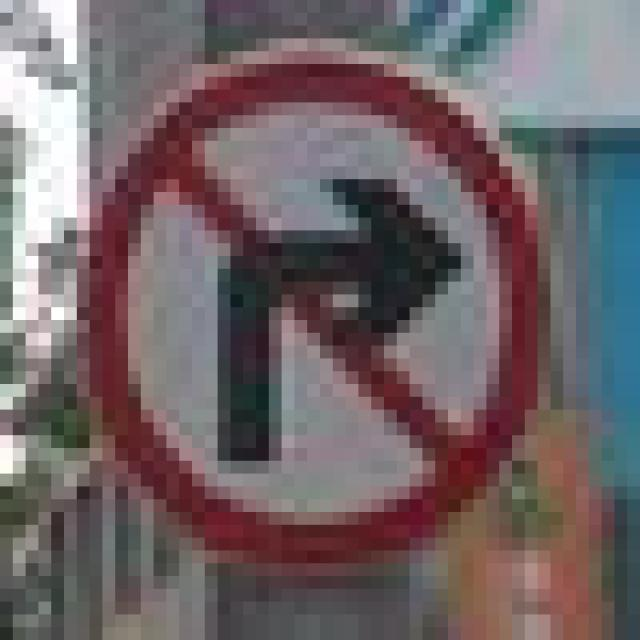RIGHT_TURN_PROHIBITED: (70, 32, 553, 580)
